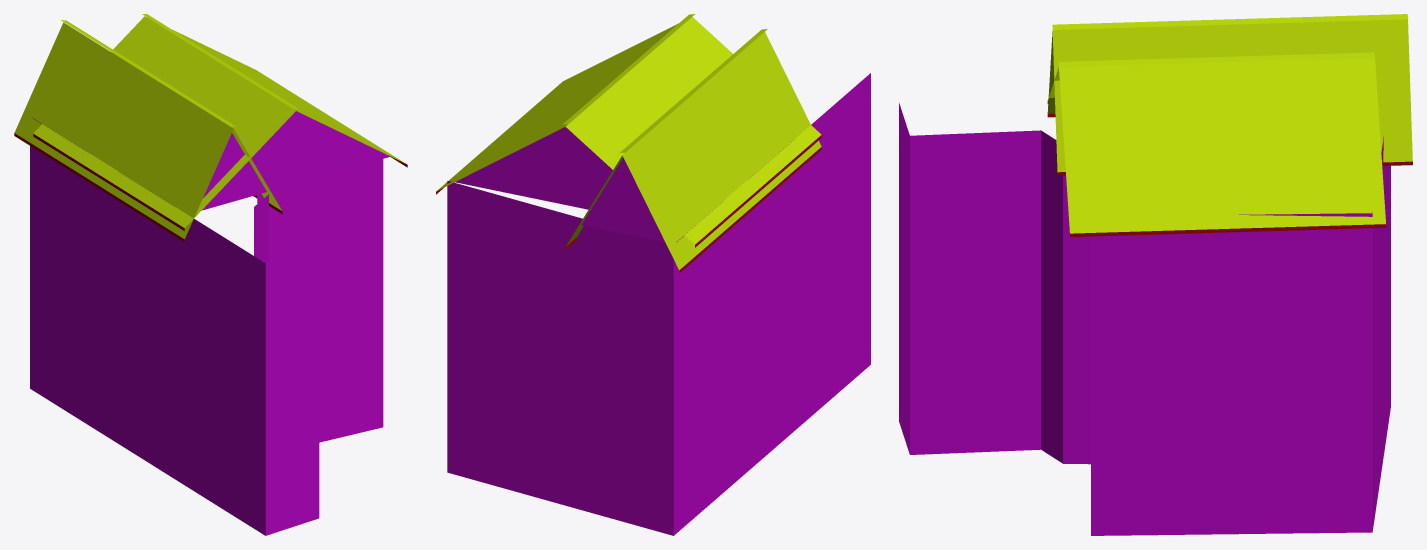
The model's file is bgj_220.glb.
3 views of the same model, side by side, from view 1: azimuth 30°, elevation 25°; view 2: azimuth 150°, elevation 25°; view 3: azimuth 270°, elevation 25° (orthographic). The views are drawn at different scales.
Parts seen in each view (by area): view 1: bgj_220; view 2: bgj_220; view 3: bgj_220.
Boxes of the visible parts, x1,y1,x2,y2 form: bgj_220: (14, 14, 407, 535); bgj_220: (436, 14, 870, 535); bgj_220: (899, 14, 1412, 535).
Bounding box in the file's own units: 10.38 × 14 × 15.72.
